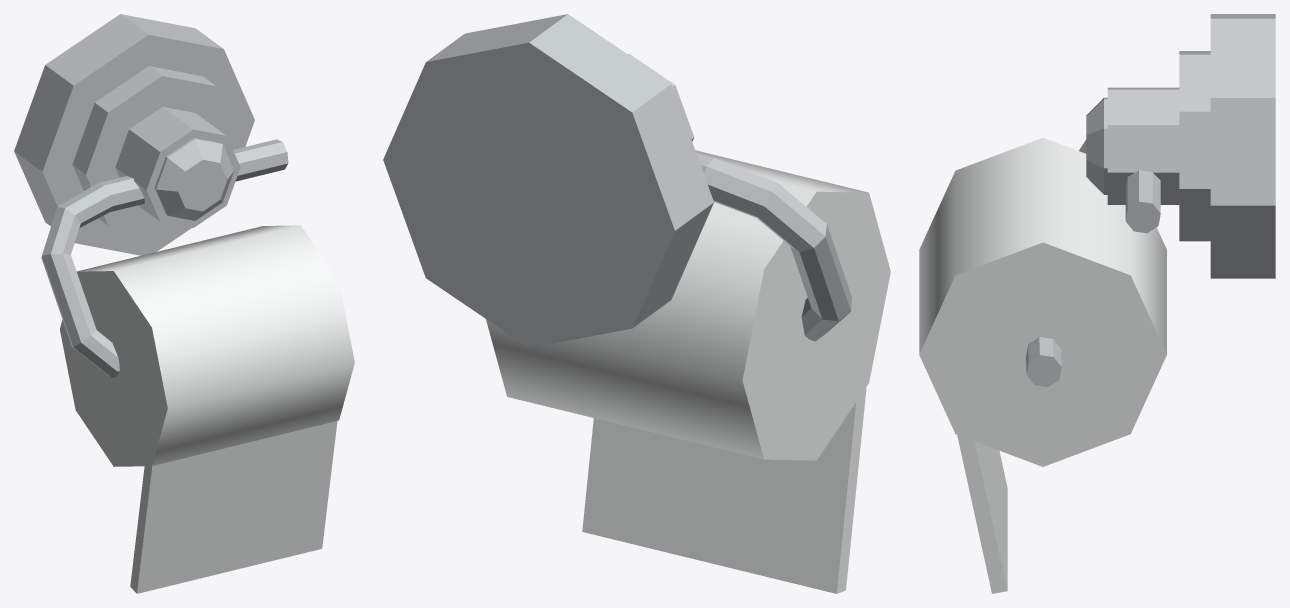
The model's file is Toilet-Paper.fbx.
3 renders of one model, left to right at view 1: azimuth 30°, elevation 25°; view 2: azimuth 150°, elevation 25°; view 3: azimuth 270°, elevation 25°, orthographic. The views are drawn at different scales.
Parts seen in each view (by area): view 1: Toilet-Papper-2, Toilet-Papper-1; view 2: Toilet-Papper-2, Toilet-Papper-1; view 3: Toilet-Papper-2, Toilet-Papper-1.
Boxes of the visible parts, <box> form: Toilet-Papper-2: <box>60,225,354,593</box>; Toilet-Papper-1: <box>14,14,288,377</box>; Toilet-Papper-2: <box>486,150,890,593</box>; Toilet-Papper-1: <box>383,14,851,347</box>; Toilet-Papper-2: <box>919,138,1166,593</box>; Toilet-Papper-1: <box>1026,14,1275,387</box>.
Bounding box in the file's own units: 0.2424 × 0.4111 × 0.25.
